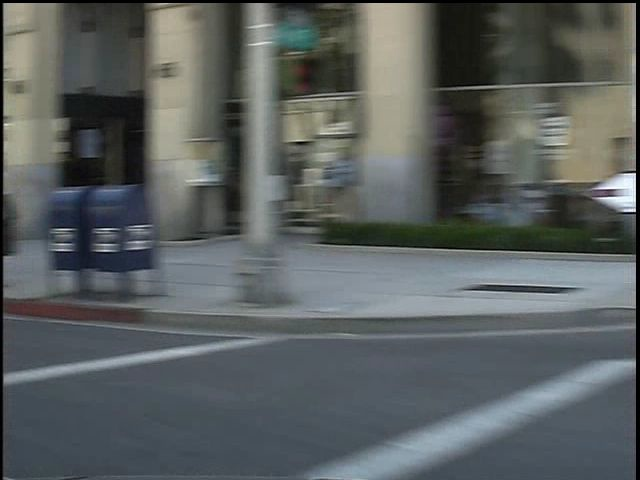person: (617, 117, 637, 284)
